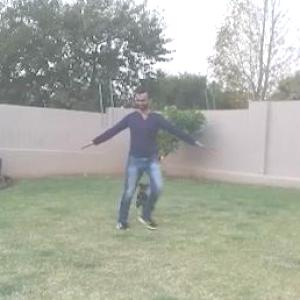land: (90, 96, 201, 226)
